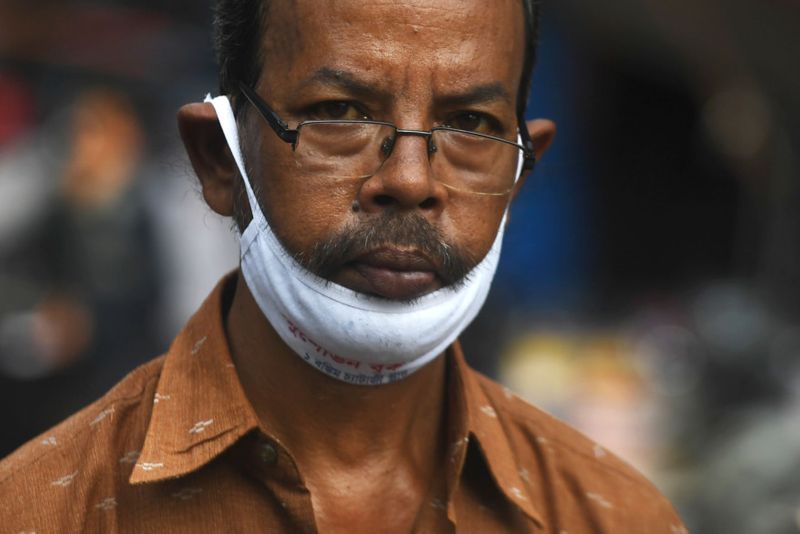with_incorrect_mask: (252, 1, 525, 319)
